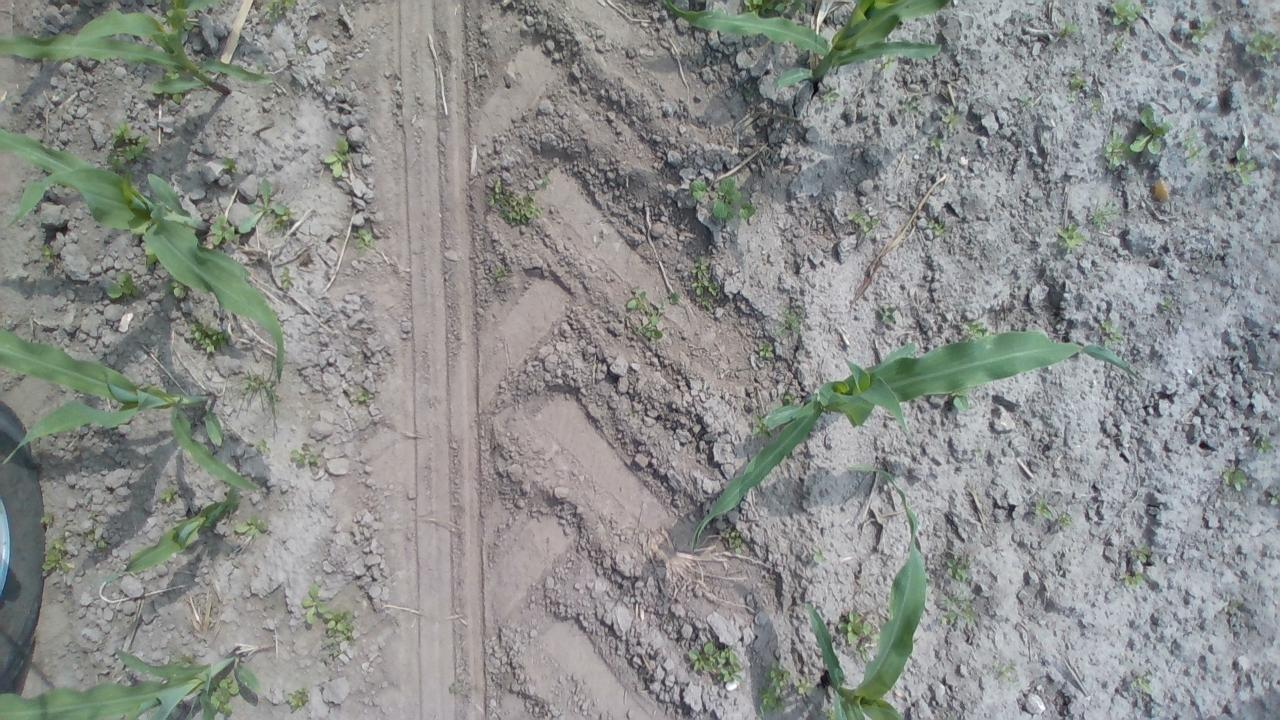Maize: (690, 331, 1140, 551), (0, 126, 287, 384), (0, 326, 261, 492), (804, 466, 928, 720), (662, 0, 953, 92), (0, 1, 273, 96), (0, 647, 262, 720), (92, 485, 241, 586)
Weeds: (689, 174, 754, 222), (238, 178, 287, 233), (486, 177, 543, 223), (1128, 105, 1176, 156), (688, 640, 742, 684), (236, 366, 280, 419), (686, 253, 721, 312), (757, 656, 789, 712), (1098, 127, 1134, 172), (190, 314, 230, 354), (106, 136, 152, 170), (938, 590, 978, 625), (1224, 148, 1258, 187), (835, 610, 873, 644), (635, 299, 667, 339), (323, 136, 351, 181), (1245, 29, 1280, 62), (288, 441, 328, 469), (104, 271, 143, 299), (206, 213, 238, 246), (302, 580, 326, 624), (742, 0, 806, 16), (41, 539, 70, 574), (211, 678, 238, 715), (323, 607, 355, 638), (1184, 126, 1208, 166), (1092, 199, 1122, 230), (1056, 222, 1086, 253), (776, 306, 806, 337), (846, 209, 880, 236), (1186, 16, 1218, 44), (946, 554, 972, 585), (318, 636, 344, 666), (1112, 0, 1144, 24), (264, 0, 298, 22), (234, 515, 268, 537), (1221, 464, 1250, 489), (1068, 66, 1088, 102), (939, 105, 965, 132), (1098, 321, 1123, 347), (284, 686, 308, 711), (750, 413, 772, 440), (163, 10, 192, 30), (1128, 672, 1153, 694), (1118, 570, 1148, 588), (722, 528, 742, 554), (624, 286, 644, 312), (1255, 432, 1275, 457), (352, 228, 374, 250), (820, 81, 841, 104), (902, 92, 922, 116), (994, 660, 1015, 682), (961, 321, 988, 338), (165, 281, 188, 300), (1130, 541, 1150, 562), (810, 543, 830, 564), (794, 674, 814, 695), (111, 120, 132, 140), (1056, 17, 1078, 36), (876, 305, 897, 324), (1036, 498, 1054, 520), (160, 484, 182, 502), (38, 243, 56, 264), (953, 392, 971, 412), (1110, 34, 1128, 54), (756, 342, 776, 360), (853, 642, 870, 663), (282, 264, 294, 292), (539, 168, 554, 190), (220, 154, 238, 172), (1090, 94, 1106, 114), (928, 218, 946, 234), (1056, 510, 1072, 528), (1008, 93, 1030, 106), (144, 248, 159, 266), (926, 137, 944, 152), (880, 56, 896, 72), (1268, 485, 1280, 506), (1158, 298, 1174, 313), (1224, 600, 1240, 614), (494, 265, 508, 281), (256, 438, 270, 454), (38, 514, 56, 526), (744, 85, 754, 103), (667, 291, 680, 304), (448, 682, 460, 696), (356, 392, 371, 402), (85, 530, 96, 542), (1265, 96, 1276, 108), (826, 705, 834, 720), (782, 397, 795, 406), (87, 512, 99, 518), (96, 540, 105, 548)
